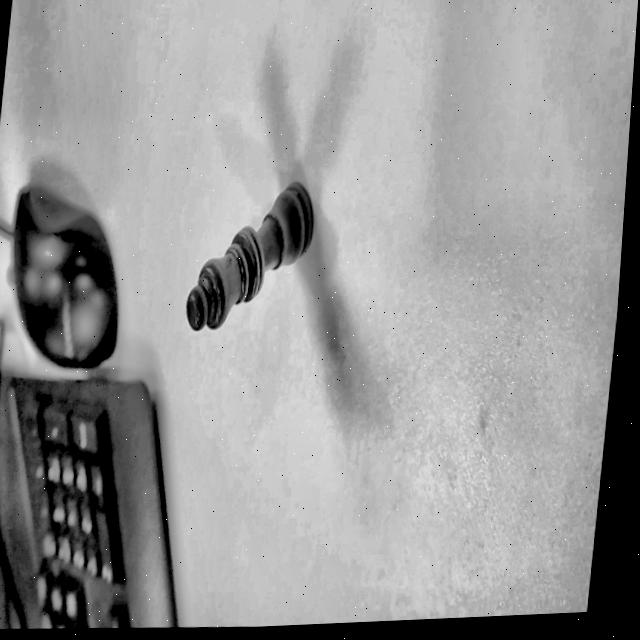black-queen: (175, 160, 327, 348)
